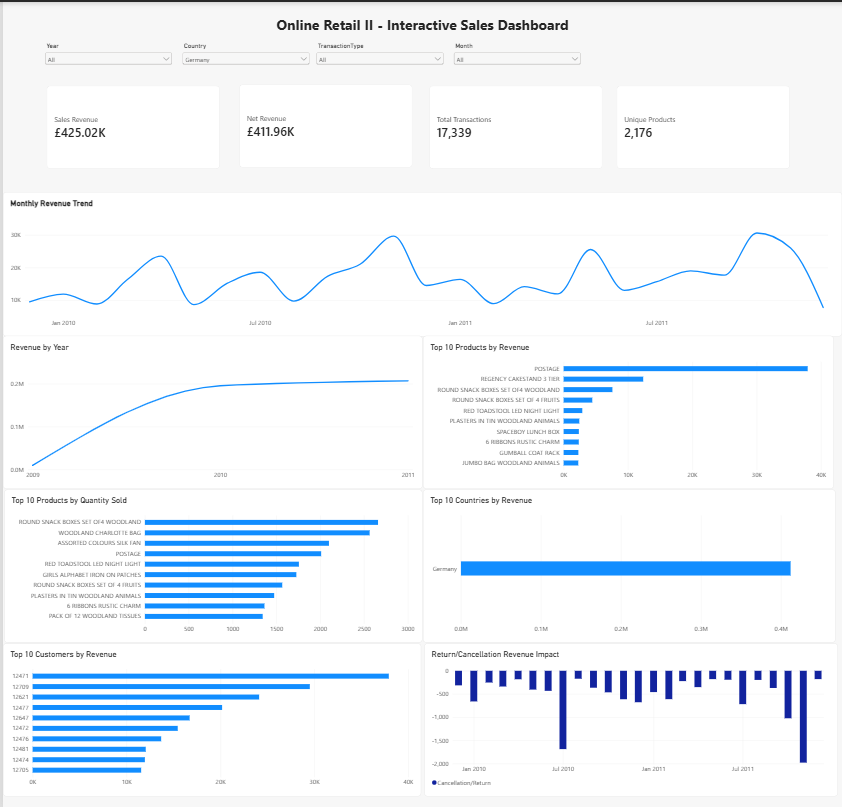

The page's visual inventory and layout, read from the dashboard file:
{"tool":"powerbi","page":{"name":"Page 1","canvas":[1920,1850],"ordinal":0},"visuals":[{"type":"cardVisual","fields":{"Data":["online_retail_II_cleaned.Sales Revenue"]},"box":[99.9,191.4,396.7,190],"z":0},{"type":"cardVisual","fields":{"Data":["online_retail_II_cleaned.Net Revenue"]},"box":[540.6,189.6,396.4,190],"z":1000},{"type":"cardVisual","fields":{"Data":["online_retail_II_cleaned.Total Transactions"]},"box":[975,192.5,396.4,190],"z":2000},{"type":"cardVisual","fields":{"Data":["online_retail_II_cleaned.Total Products"]},"box":[1405,192.5,396.4,190],"z":3000},{"type":"textbox","box":[0,30,1920,62.5],"z":4000},{"type":"slicer","fields":{"Values":["online_retail_II_cleaned.Year"]},"box":[92.8,92.8,300,100],"z":5000},{"type":"lineChart","title":"Monthly Revenue Trend","fields":{"Category":["online_retail_II_cleaned.YearMonth"],"Y":["Sum(online_retail_II_cleaned.Revenue)"]},"box":[0,423.3,1919.2,331.8],"z":6000},{"type":"lineChart","title":"Revenue by Year","fields":{"Category":["online_retail_II_cleaned.Year"],"Y":["Sum(online_retail_II_cleaned.Revenue)"]},"box":[0,764.3,950,350.8],"z":7000},{"type":"clusteredBarChart","title":"Top 10 Products by Revenue","fields":{"Category":["online_retail_II_cleaned.Description"],"Y":["Sum(online_retail_II_cleaned.Revenue)"]},"box":[960,764.3,946,350.8],"z":8000},{"type":"clusteredBarChart","title":"Top 10 Products by Quantity Sold","fields":{"Category":["online_retail_II_cleaned.Description"],"Y":["Sum(online_retail_II_cleaned.Quantity)"]},"box":[3.3,1116.7,950,350],"z":9000},{"type":"clusteredBarChart","title":"Top 10 Countries by Revenue","fields":{"Category":["online_retail_II_cleaned.Country"],"Y":["Sum(online_retail_II_cleaned.Revenue)"]},"box":[960,1116.7,946,350],"z":10000},{"type":"clusteredBarChart","title":"Top 10 Customers by Revenue","fields":{"Category":["online_retail_II_cleaned.Customer ID"],"Y":["Sum(online_retail_II_cleaned.Revenue)"]},"box":[0,1466.7,950,350],"z":11000},{"type":"clusteredColumnChart","title":"Return/Cancellation Revenue Impact","fields":{"Category":["online_retail_II_cleaned.YearMonth"],"Series":["online_retail_II_cleaned.TransactionType"],"Y":["Sum(online_retail_II_cleaned.Revenue)"]},"box":[963.3,1466.7,946,350],"z":12000},{"type":"slicer","fields":{"Values":["online_retail_II_cleaned.Country"]},"box":[406.4,92.8,300,100],"z":13000},{"type":"slicer","fields":{"Values":["online_retail_II_cleaned.TransactionType"]},"box":[713.6,92.8,300.8,100],"z":14000},{"type":"slicer","fields":{"Values":["online_retail_II_cleaned.MonthName"]},"box":[1025.7,92.9,300,100],"z":15000}]}

Visuals, with their boxes in screenshot pixels (x1, y1, x2, y2), scaled from the page's 1920x1850 canvas onto the 842x807 screenshot:
cardVisual - online_retail_II_cleaned.Sales Revenue: <region>44, 83, 218, 166</region>
cardVisual - online_retail_II_cleaned.Net Revenue: <region>237, 83, 411, 166</region>
cardVisual - online_retail_II_cleaned.Total Transactions: <region>428, 84, 601, 167</region>
cardVisual - online_retail_II_cleaned.Total Products: <region>616, 84, 790, 167</region>
textbox: <region>0, 13, 841, 40</region>
slicer - online_retail_II_cleaned.Year: <region>41, 40, 172, 84</region>
"Monthly Revenue Trend" lineChart: <region>0, 185, 841, 329</region>
"Revenue by Year" lineChart: <region>0, 333, 417, 486</region>
"Top 10 Products by Revenue" clusteredBarChart: <region>421, 333, 836, 486</region>
"Top 10 Products by Quantity Sold" clusteredBarChart: <region>1, 487, 418, 640</region>
"Top 10 Countries by Revenue" clusteredBarChart: <region>421, 487, 836, 640</region>
"Top 10 Customers by Revenue" clusteredBarChart: <region>0, 640, 417, 792</region>
"Return/Cancellation Revenue Impact" clusteredColumnChart: <region>422, 640, 837, 792</region>
slicer - online_retail_II_cleaned.Country: <region>178, 40, 310, 84</region>
slicer - online_retail_II_cleaned.TransactionType: <region>313, 40, 445, 84</region>
slicer - online_retail_II_cleaned.MonthName: <region>450, 41, 581, 84</region>
